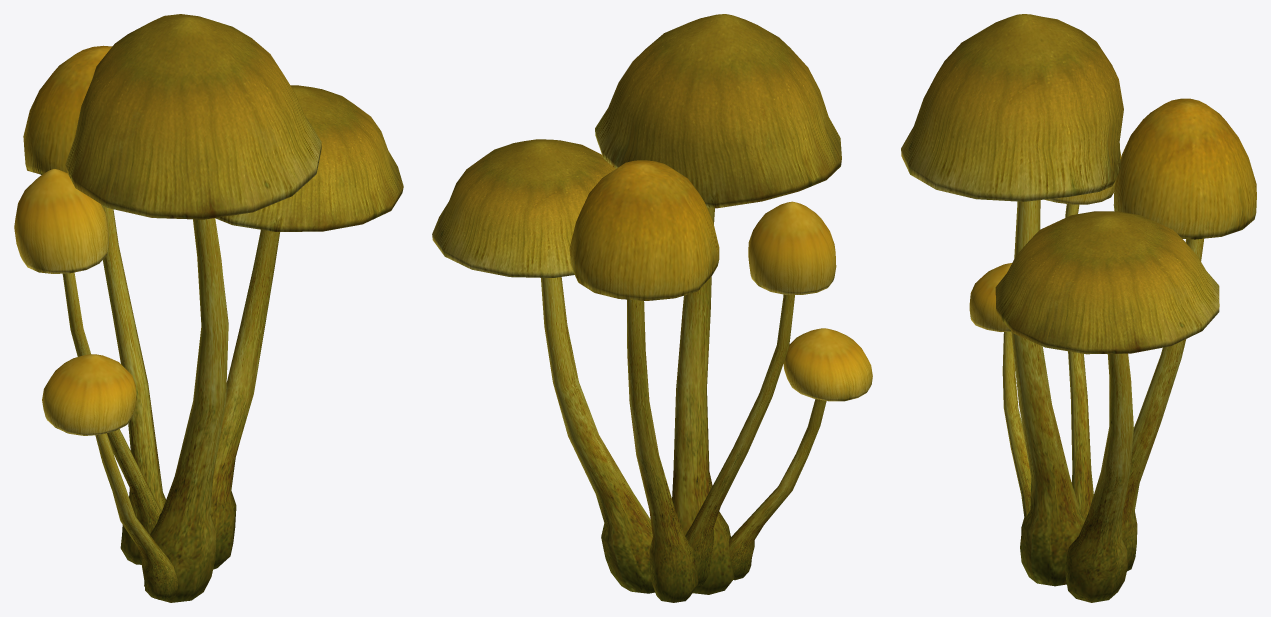
File: SetasPesticidas.fbx
3 renders of one model, left to right at view 1: azimuth 30°, elevation 25°; view 2: azimuth 150°, elevation 25°; view 3: azimuth 270°, elevation 25°, orthographic. The views are drawn at different scales.
Visible parts, largest first — view 1: mushroom; view 2: mushroom; view 3: mushroom.
Boxes of the visible parts, bbox=[...] form: mushroom: bbox=[14, 14, 403, 602]; mushroom: bbox=[432, 14, 872, 602]; mushroom: bbox=[901, 14, 1256, 602].
Size of the model in its own units: 0.087 by 0.0727 by 0.1266.
Materials: 1 (1 with a texture image).
